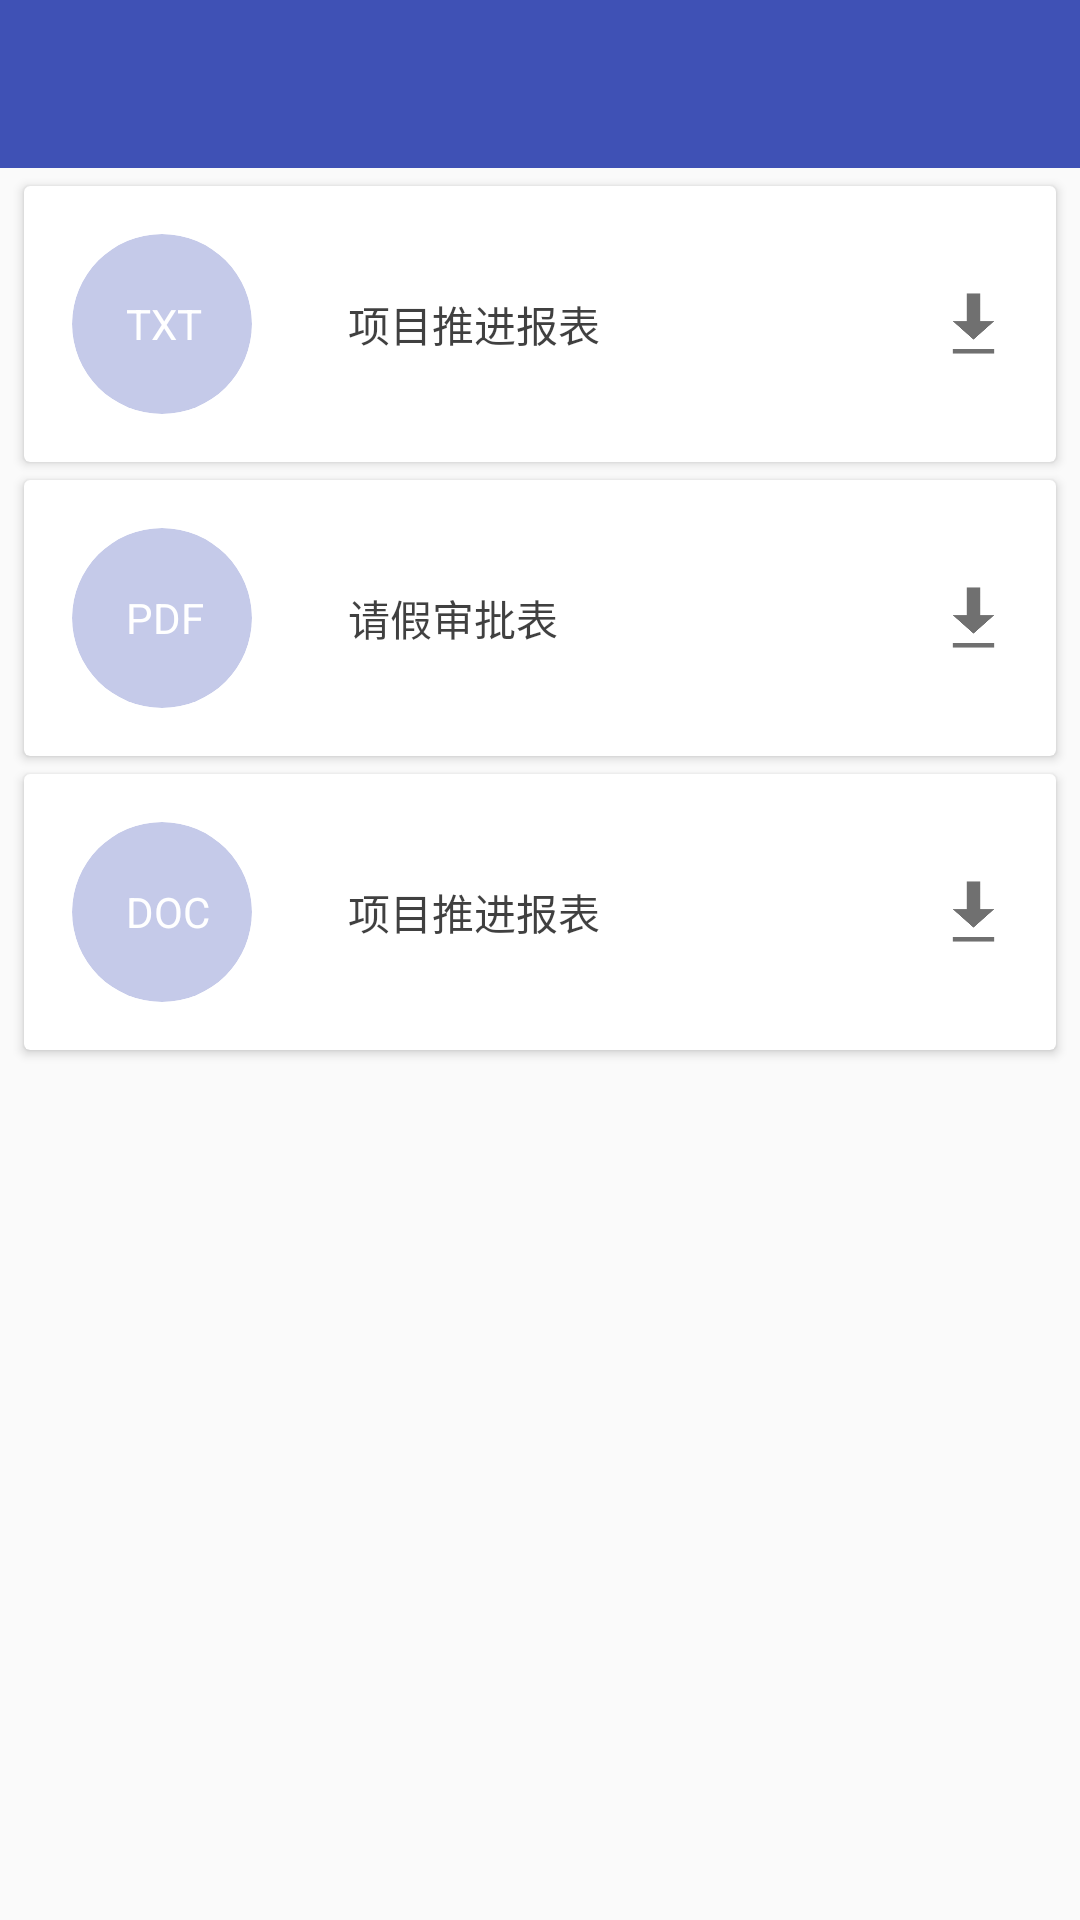

Where icons sit on this 1080*1920 app screen, as (x1, y1, x2, y2):
download: (953, 293, 994, 354), (953, 587, 994, 648), (953, 881, 994, 942)
